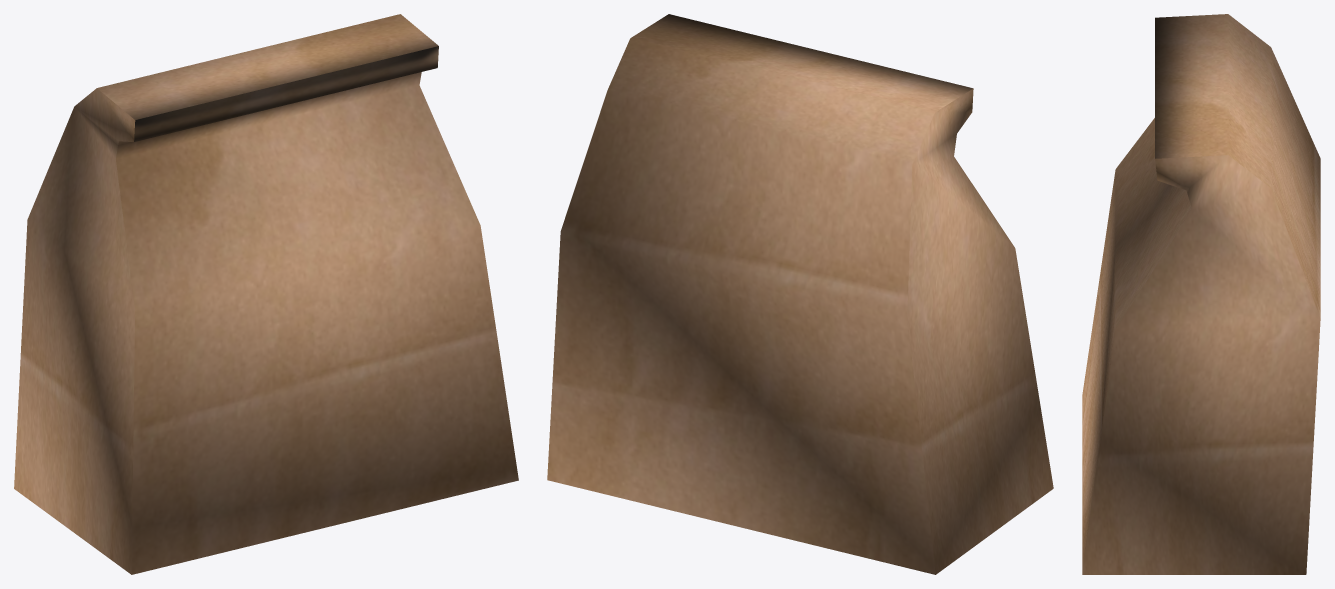
File: M_bag_uneaten.fbx
3 renders of one model, left to right at view 1: azimuth 30°, elevation 25°; view 2: azimuth 150°, elevation 25°; view 3: azimuth 270°, elevation 25°, orthographic. The views are drawn at different scales.
Parts seen in each view (by area): view 1: Paper_Bag_1; view 2: Paper_Bag_1; view 3: Paper_Bag_1.
Boxes of the visible parts, <box> form: Paper_Bag_1: <box>14,14,518,574</box>; Paper_Bag_1: <box>547,14,1053,574</box>; Paper_Bag_1: <box>1082,14,1320,574</box>.
Bounding box in the file's own units: 50.36 × 52.27 × 28.18.
